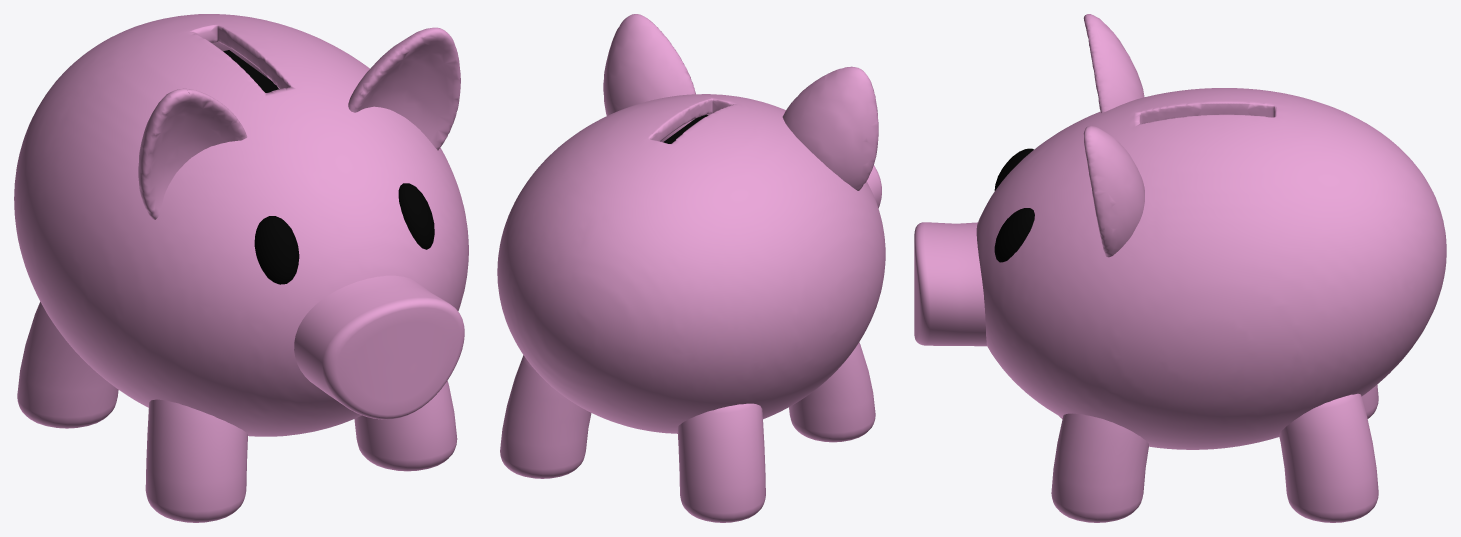
Rendered from pig.fbx.
3 views of the same model, side by side, from view 1: azimuth 30°, elevation 25°; view 2: azimuth 150°, elevation 25°; view 3: azimuth 270°, elevation 25° (orthographic). The views are drawn at different scales.
Parts seen in each view (by area): view 1: Volume_Mesher_1, eye, coin_slot; view 2: Volume_Mesher_1; view 3: Volume_Mesher_1, eye.
Part boxes in pixels (<box>): Volume_Mesher_1: <box>14,14,468,522</box>; eye: <box>254,183,434,284</box>; coin_slot: <box>223,50,279,92</box>; Volume_Mesher_1: <box>497,14,885,522</box>; Volume_Mesher_1: <box>914,14,1446,522</box>; eye: <box>994,148,1034,262</box>.
Size of the model in its own units: 222 by 243 by 300.
